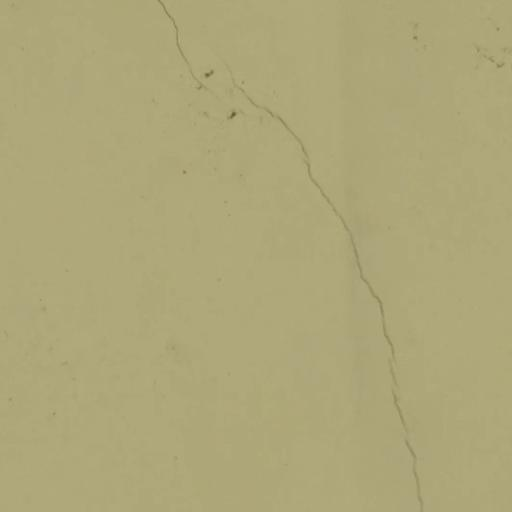minor_crack: (146, 0, 433, 512)
